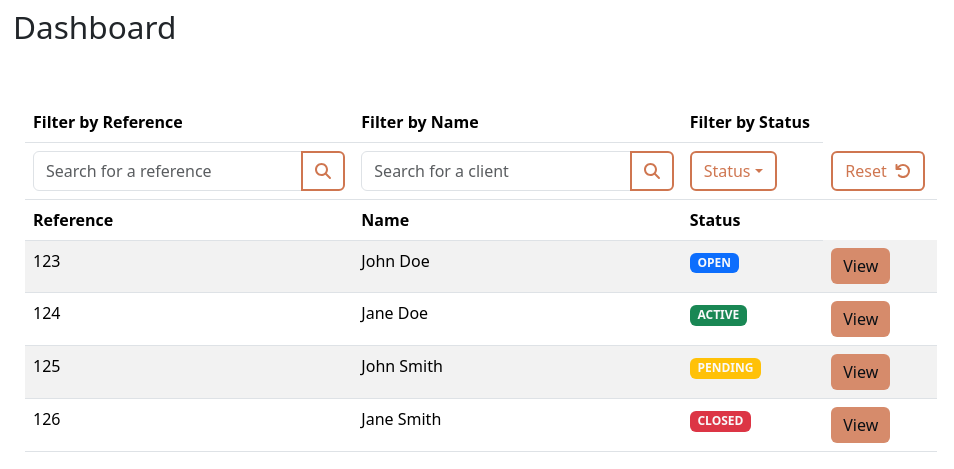
Test case: Dashboard › when the cases have loaded › renders the cases table with the correct amount of rows after filtering by reference
Type "123" into the field with placeholder "Search for a reference".
click(168, 171); type("123")  # box [33,151,302,191]
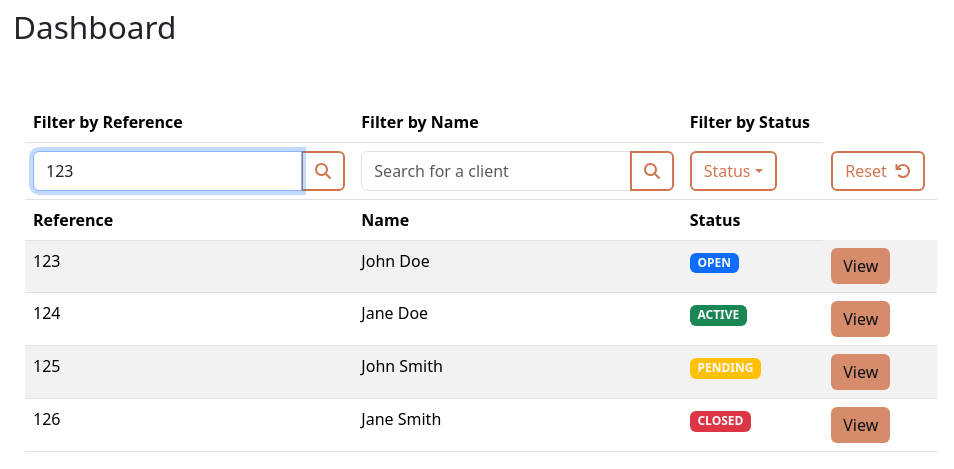
Click the 1st button.
click(323, 171)  # box [301,151,345,191]
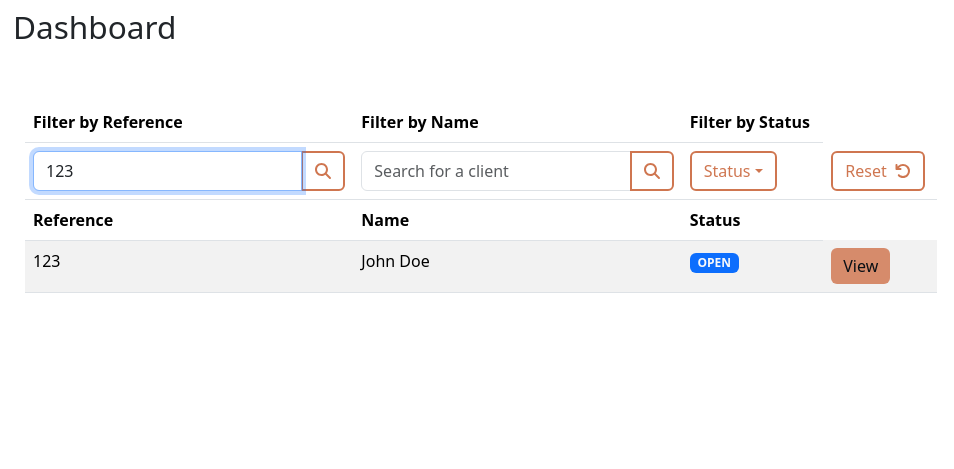
Check: the row with test id "caseRow" shows "123", box [33,250,60,272]
Check: the number of rows with test id "caseRow" is 1, box [25,240,937,293]
